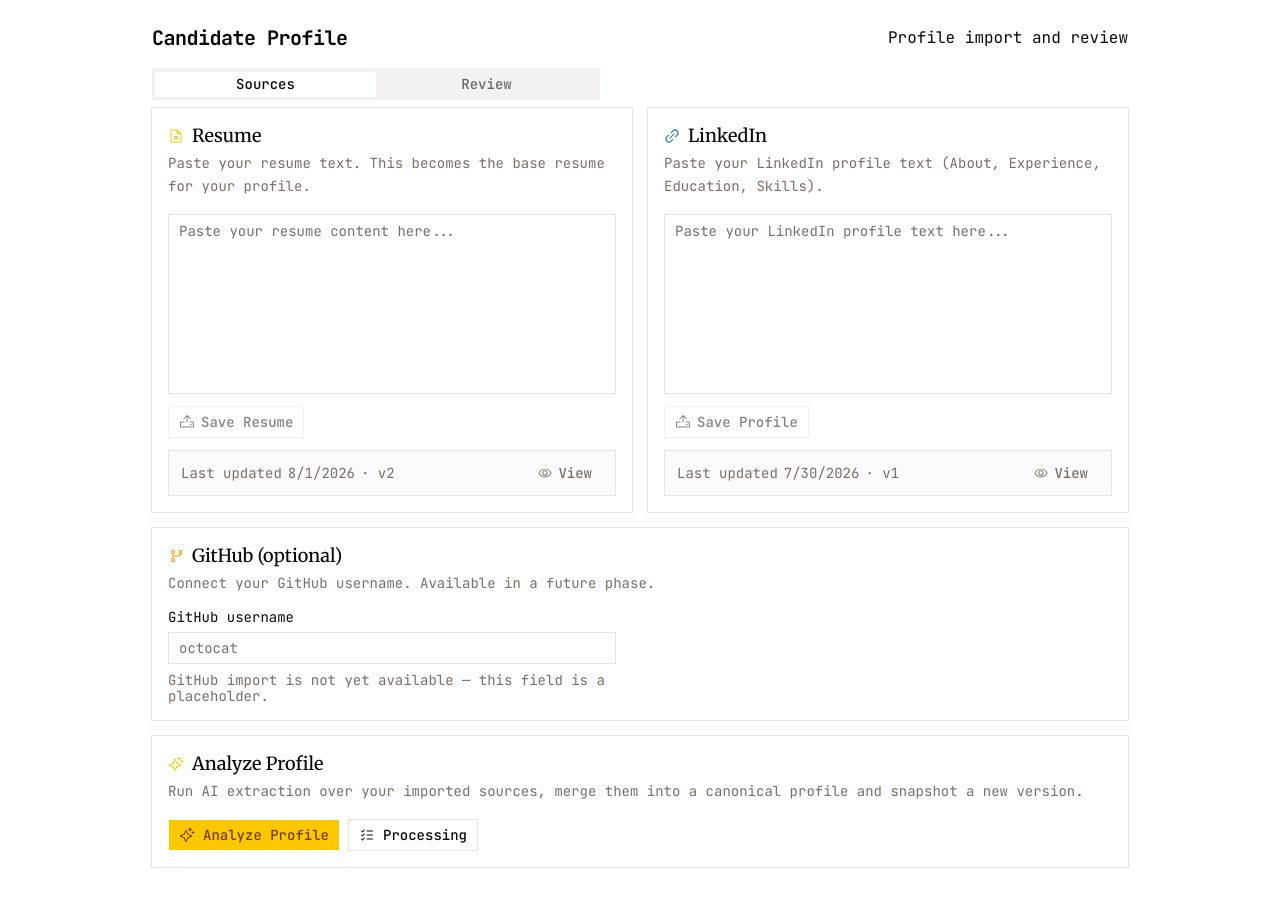
it: ProfileImportPage sources › opens the source content dialog when View is clicked on a source card
Click the button "View" in the row of "8/1/2026": x=565, y=472 [527,458,603,486]
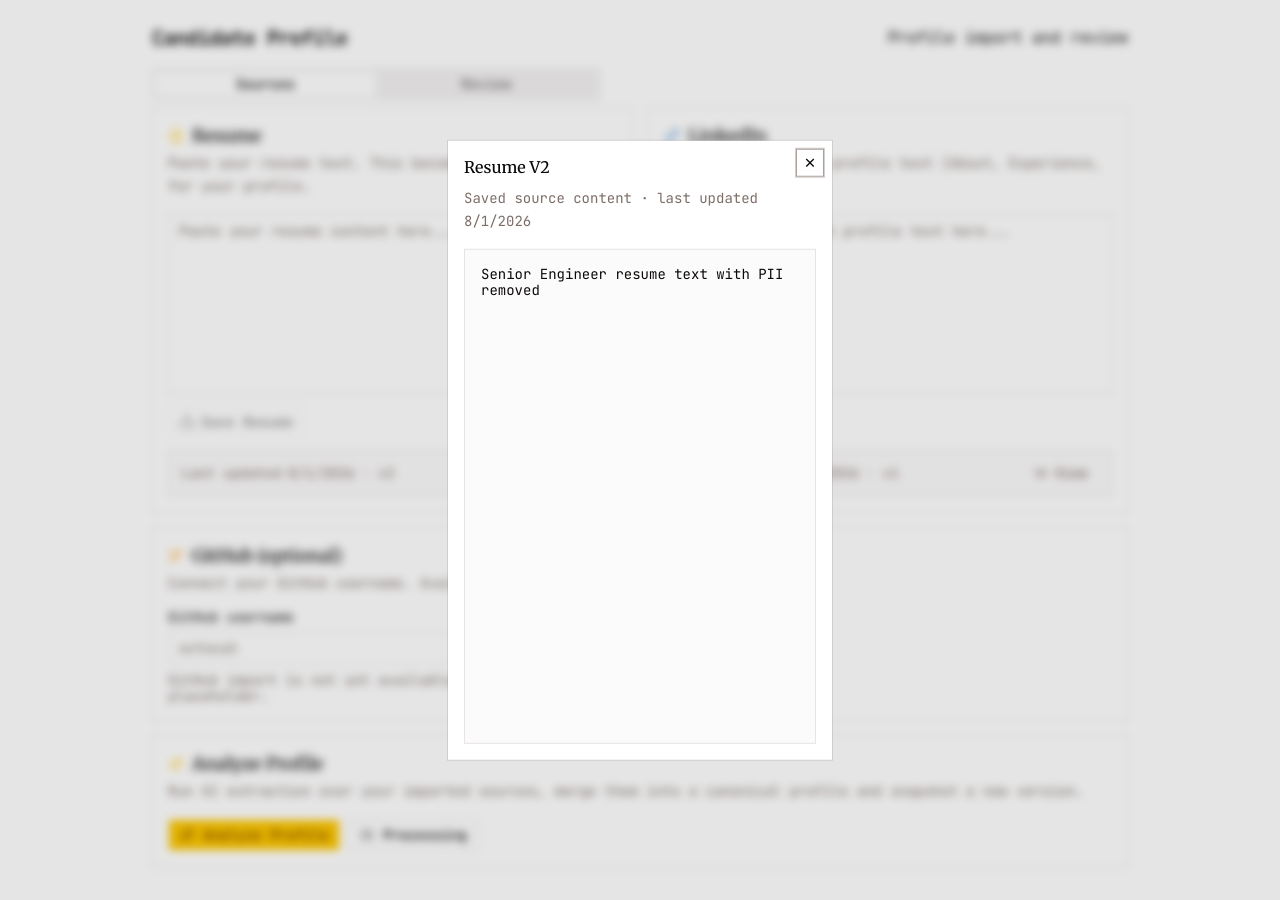
Now the dialog is shown, box [448,141,832,759]
Now the text "Senior Engineer resume text with PII removed" is shown, box [481,265,799,297]
